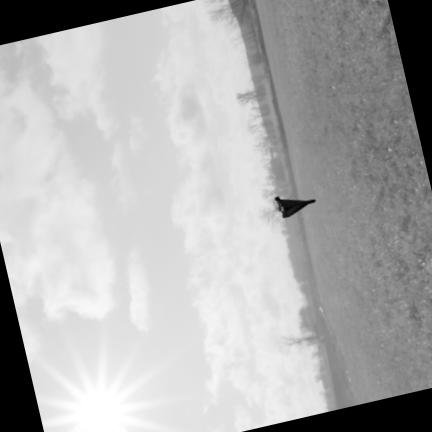Shahed: (275, 196, 315, 217)
